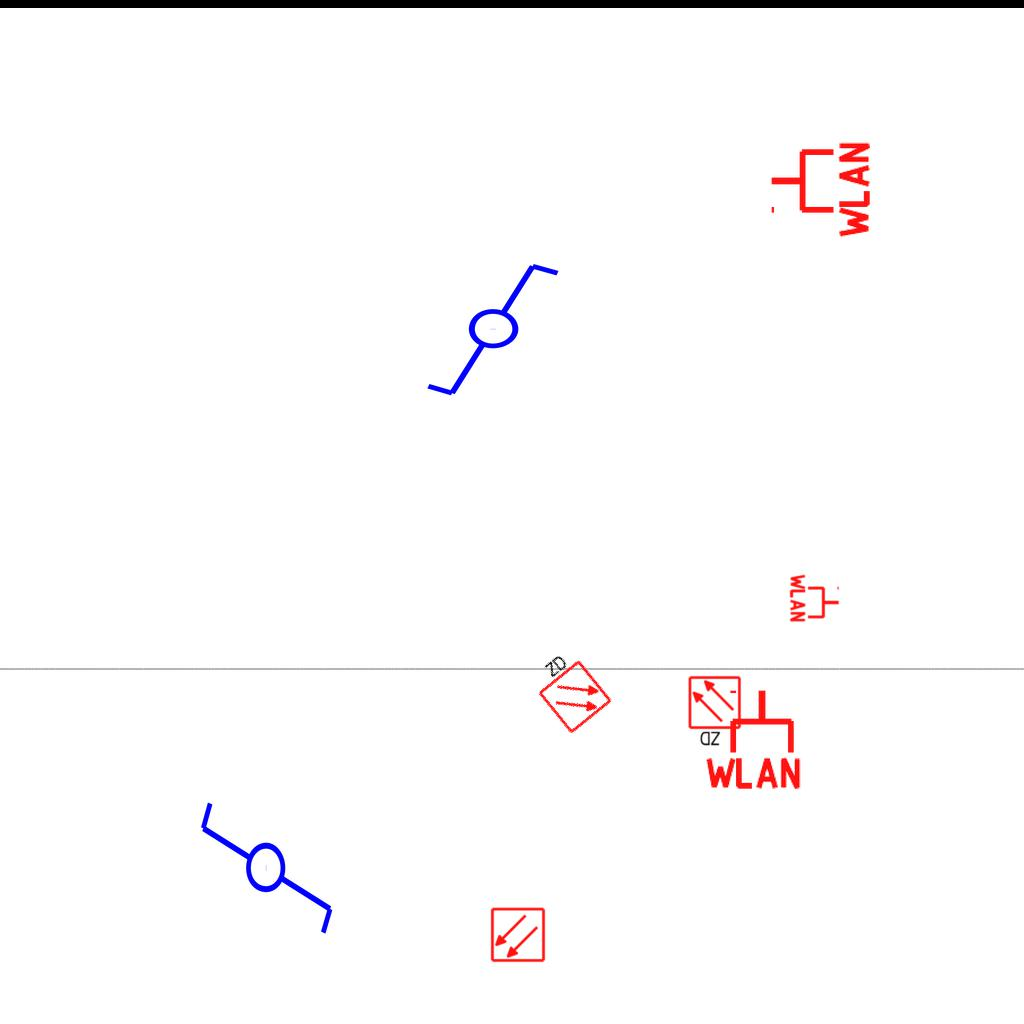RMO_Rauchmelder_optischer: (490, 907, 546, 963)
WLAN: (767, 138, 872, 242), (701, 686, 805, 791), (789, 572, 841, 624)
Wechselschalter: (423, 259, 580, 403), (196, 781, 340, 938)
ZD_Melder_in_Zwischendecke_mit_Revisionsoeffnung_mind_40_x_40_cm: (523, 643, 614, 737), (687, 675, 744, 749)
